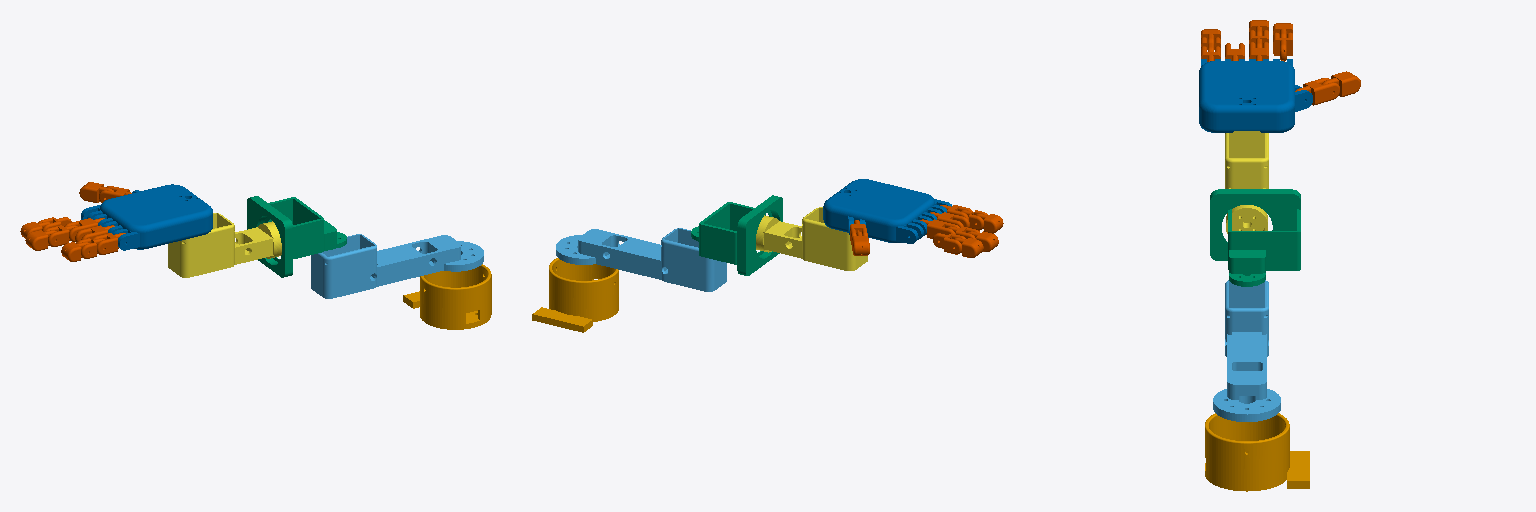
robot.urdf — cocomi_arm_v3:
<?xml version="1.0"?>
<!-- COCOMI / ここちゃん arm v3 (auto-generated). PLA mass = ~50% printed estimate; servos/actuator added as boxes.
     STS3215 55 g x3, grip, 6806 bearing 18 g servo 13.4 g, AK45-10 placeholder 260 g. Units m/kg/rad.
     finger_grip is SIMPLIFIED: one link holds all finger segments (open pose); real fingers are tendon-driven pin joints. -->
<robot name="cocomi_arm_v3">
 <link name="shoulder_base">
  <inertial><origin xyz="3.7728e-10 0.00039949 -0.023343"/><mass value="0.27900"/>
   <inertia ixx="1.1966e-04" ixy="-8.6654e-13" ixz="-8.3695e-13" iyy="1.1667e-04" iyz="2.3620e-06" izz="1.3768e-04"/></inertial>
  <visual><origin xyz="0 0 0" rpy="0 0 0"/><geometry><mesh filename="shoulder_cup.stl" scale="0.001 0.001 0.001"/></geometry></visual>
  <visual><origin xyz="0 0 0" rpy="0 0 0"/><geometry><mesh filename="actuator_AK45-10_placeholder.stl" scale="0.001 0.001 0.001"/></geometry></visual>
 </link>
 <link name="upper_arm">
  <inertial><origin xyz="-0.088002 -5.6798e-12 0.019498"/><mass value="0.09141"/>
   <inertia ixx="1.7332e-05" ixy="3.6248e-14" ixz="1.6594e-05" iyy="1.4181e-04" iyz="5.4687e-15" izz="1.3773e-04"/></inertial>
  <visual><origin xyz="0 0 0" rpy="0 0 0"/><geometry><mesh filename="upper_arm.stl" scale="0.001 0.001 0.001"/></geometry></visual>
  <collision><geometry><mesh filename="upper_arm.stl" scale="0.001 0.001 0.001"/></geometry></collision>
 </link>
 <link name="forearm">
  <inertial><origin xyz="-0.038925 0.0091292 0.014781"/><mass value="0.09619"/>
   <inertia ixx="2.6797e-05" ixy="-2.4713e-06" ixz="1.4432e-06" iyy="2.9391e-05" iyz="-1.9267e-07" izz="4.2018e-05"/></inertial>
  <visual><origin xyz="0 0 0" rpy="0 0 0"/><geometry><mesh filename="forearm_proximal.stl" scale="0.001 0.001 0.001"/></geometry></visual>
  <collision><geometry><mesh filename="forearm_proximal.stl" scale="0.001 0.001 0.001"/></geometry></collision>
 </link>
 <link name="forearm_distal">
  <inertial><origin xyz="-0.061309 2.1058e-10 0.010154"/><mass value="0.07660"/>
   <inertia ixx="1.4095e-05" ixy="-2.2569e-13" ixz="5.2440e-06" iyy="4.6954e-05" iyz="-2.0382e-13" izz="4.2901e-05"/></inertial>
  <visual><origin xyz="0 0 0" rpy="0 0 0"/><geometry><mesh filename="forearm_distal.stl" scale="0.001 0.001 0.001"/></geometry></visual>
  <collision><geometry><mesh filename="forearm_distal.stl" scale="0.001 0.001 0.001"/></geometry></collision>
 </link>
 <link name="hand">
  <inertial><origin xyz="-0.034709 0.0002925 0.010736"/><mass value="0.08155"/>
   <inertia ixx="3.1481e-05" ixy="-1.4148e-07" ixz="-5.7969e-07" iyy="4.6549e-05" iyz="-6.2895e-09" izz="7.2147e-05"/></inertial>
  <visual><origin xyz="0 0 0" rpy="0 0 0"/><geometry><mesh filename="palm.stl" scale="0.001 0.001 0.001"/></geometry></visual>
  <collision><geometry><mesh filename="palm.stl" scale="0.001 0.001 0.001"/></geometry></collision>
 </link>
 <link name="fingers_simplified">
  <inertial><origin xyz="-0.022259 0.0020589 -1.1346e-10"/><mass value="0.02604"/>
   <inertia ixx="1.9676e-05" ixy="-1.2377e-05" ixz="-4.4090e-14" iyy="2.4278e-05" iyz="1.0397e-14" izz="4.3312e-05"/></inertial>
  <visual><origin xyz="0 0.017 0" rpy="0 0 0.0000"/><geometry><mesh filename="finger_index_1.stl" scale="0.001 0.001 0.001"/></geometry></visual>
  <visual><origin xyz="-0.026 0.017 0" rpy="0 0 0.0000"/><geometry><mesh filename="finger_index_2.stl" scale="0.001 0.001 0.001"/></geometry></visual>
  <visual><origin xyz="-0.044 0.017 0" rpy="0 0 0.0000"/><geometry><mesh filename="finger_index_3.stl" scale="0.001 0.001 0.001"/></geometry></visual>
  <visual><origin xyz="0 0 0" rpy="0 0 0.0000"/><geometry><mesh filename="finger_middle_1.stl" scale="0.001 0.001 0.001"/></geometry></visual>
  <visual><origin xyz="-0.028 0 0" rpy="0 0 0.0000"/><geometry><mesh filename="finger_middle_2.stl" scale="0.001 0.001 0.001"/></geometry></visual>
  <visual><origin xyz="-0.048 0 0" rpy="0 0 0.0000"/><geometry><mesh filename="finger_middle_3.stl" scale="0.001 0.001 0.001"/></geometry></visual>
  <visual><origin xyz="0 -0.017 0" rpy="0 0 0.0000"/><geometry><mesh filename="finger_ring_1.stl" scale="0.001 0.001 0.001"/></geometry></visual>
  <visual><origin xyz="-0.026 -0.017 0" rpy="0 0 0.0000"/><geometry><mesh filename="finger_ring_2.stl" scale="0.001 0.001 0.001"/></geometry></visual>
  <visual><origin xyz="-0.044 -0.017 0" rpy="0 0 0.0000"/><geometry><mesh filename="finger_ring_3.stl" scale="0.001 0.001 0.001"/></geometry></visual>
  <visual><origin xyz="0 -0.034 0" rpy="0 0 0.0000"/><geometry><mesh filename="finger_pinky_1.stl" scale="0.001 0.001 0.001"/></geometry></visual>
  <visual><origin xyz="-0.021 -0.034 0" rpy="0 0 0.0000"/><geometry><mesh filename="finger_pinky_2.stl" scale="0.001 0.001 0.001"/></geometry></visual>
  <visual><origin xyz="-0.036 -0.034 0" rpy="0 0 0.0000"/><geometry><mesh filename="finger_pinky_3.stl" scale="0.001 0.001 0.001"/></geometry></visual>
  <visual><origin xyz="0.048411 0.028777 0" rpy="0 0 -0.9599"/><geometry><mesh filename="finger_thumb_1.stl" scale="0.001 0.001 0.001"/></geometry></visual>
  <visual><origin xyz="0.034646 0.048436 0" rpy="0 0 -0.9599"/><geometry><mesh filename="finger_thumb_2.stl" scale="0.001 0.001 0.001"/></geometry></visual>
 </link>
 <joint name="shoulder_pitch" type="revolute"><parent link="shoulder_base"/><child link="upper_arm"/>
  <origin xyz="0 0 0"/><axis xyz="0 0 1"/><limit lower="-2.8" upper="0.8" effort="3" velocity="5"/></joint>
 <joint name="elbow" type="revolute"><parent link="upper_arm"/><child link="forearm"/>
  <origin xyz="-0.12 0 0.047"/><axis xyz="0 0 1"/><limit lower="-2.4" upper="0" effort="1.5" velocity="4"/></joint>
 <joint name="forearm_roll" type="revolute"><parent link="forearm"/><child link="forearm_distal"/>
  <origin xyz="-0.058 0 0.0156"/><axis xyz="1 0 0"/><limit lower="-1.5708" upper="1.5708" effort="1.5" velocity="4"/></joint>
 <joint name="wrist" type="revolute"><parent link="forearm_distal"/><child link="hand"/>
  <origin xyz="-0.08 0 0.036"/><axis xyz="0 0 1"/><limit lower="-1.2" upper="1.2" effort="1.5" velocity="4"/></joint>
 <joint name="finger_grip" type="revolute"><parent link="hand"/><child link="fingers_simplified"/>
  <origin xyz="-0.079 0.0085 0.011"/><axis xyz="0 1 0"/><limit lower="0" upper="1.4" effort="0.2" velocity="3"/></joint>
</robot>

--- Facts derived from the render (not from the file) ---
The picture shows the robot from 3 angles, left to right: view 1: azimuth 30°, elevation 25°; view 2: azimuth 150°, elevation 25°; view 3: azimuth 270°, elevation 25°; orthographic projection.
Model cocomi_arm_v3 with 6 links and 5 joints (5 revolute), rooted at shoulder_base, posed all joints at 0.
Links seen in each view (by area): view 1: upper_arm, hand, forearm_distal, shoulder_base, forearm, fingers_simplified; view 2: upper_arm, hand, shoulder_base, forearm, forearm_distal, fingers_simplified; view 3: hand, forearm, shoulder_base, upper_arm, fingers_simplified, forearm_distal.
Link boxes in pixels (box(x1,y1,x2,y2)): upper_arm: box(311, 234, 483, 298); hand: box(81, 184, 212, 250); forearm_distal: box(168, 213, 281, 277); shoulder_base: box(403, 264, 491, 329); forearm: box(247, 196, 346, 277); fingers_simplified: box(20, 182, 131, 261); upper_arm: box(556, 228, 726, 291); hand: box(823, 179, 951, 243); shoulder_base: box(532, 258, 618, 332); forearm: box(691, 195, 782, 275); forearm_distal: box(756, 207, 867, 270); fingers_simplified: box(850, 205, 1003, 257); hand: box(1199, 59, 1312, 132); forearm: box(1210, 189, 1300, 286); shoulder_base: box(1205, 413, 1309, 491); upper_arm: box(1213, 280, 1280, 421); fingers_simplified: box(1201, 20, 1360, 105); forearm_distal: box(1225, 131, 1268, 233).
Bounding box of the posed robot: 0.4375 × 0.1142 × 0.1686 m (x, y, z).
Meshes: 20 distinct files referenced, 16 mesh visuals loaded (16 binary STL); not drawn: 4 (reference not matched to a file when rendering).
